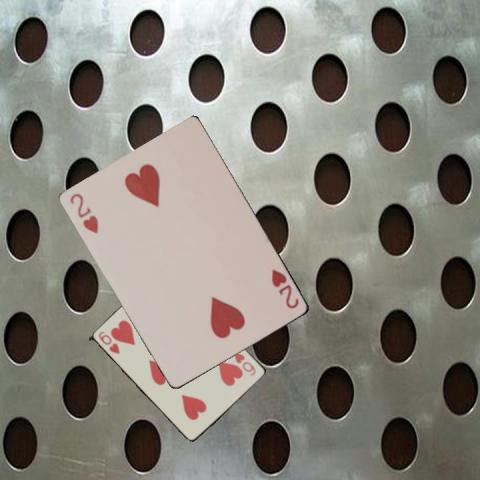2h: (67, 190, 101, 236), (268, 266, 300, 311)
6h: (232, 349, 258, 377), (96, 328, 121, 355)
